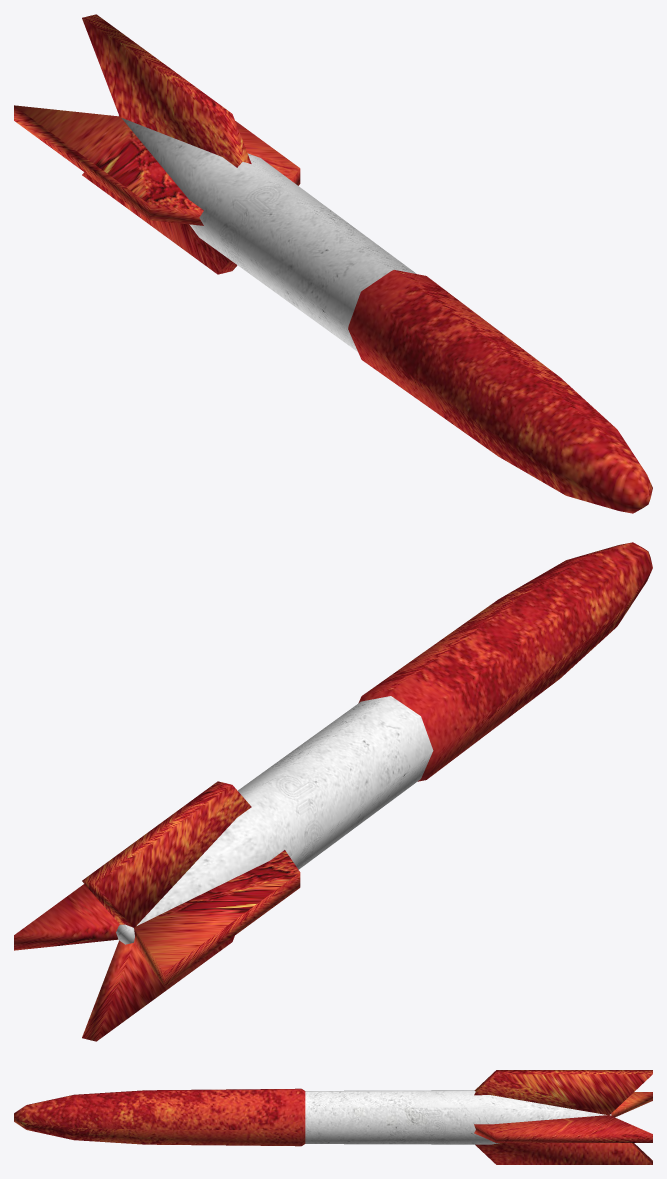
File: torpedo.obj
The picture shows the model from 3 angles, top to bottom: view 1: azimuth 30°, elevation 25°; view 2: azimuth 150°, elevation 25°; view 3: azimuth 270°, elevation 25°; orthographic projection. The views are drawn at different scales.
Visible parts, largest first — view 1: Cylinder_Cylinder.001; view 2: Cylinder_Cylinder.001; view 3: Cylinder_Cylinder.001.
Boxes of the visible parts, x1=… form: Cylinder_Cylinder.001: x1=14, y1=14, x2=652, y2=513; Cylinder_Cylinder.001: x1=14, y1=542, x2=652, y2=1041; Cylinder_Cylinder.001: x1=14, y1=1070, x2=652, y2=1164.
Size of the model in its own units: 0.3826 by 0.3826 by 2.45.
